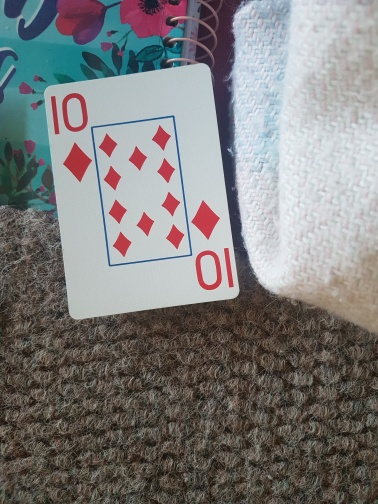ten: (45, 64, 240, 316)
